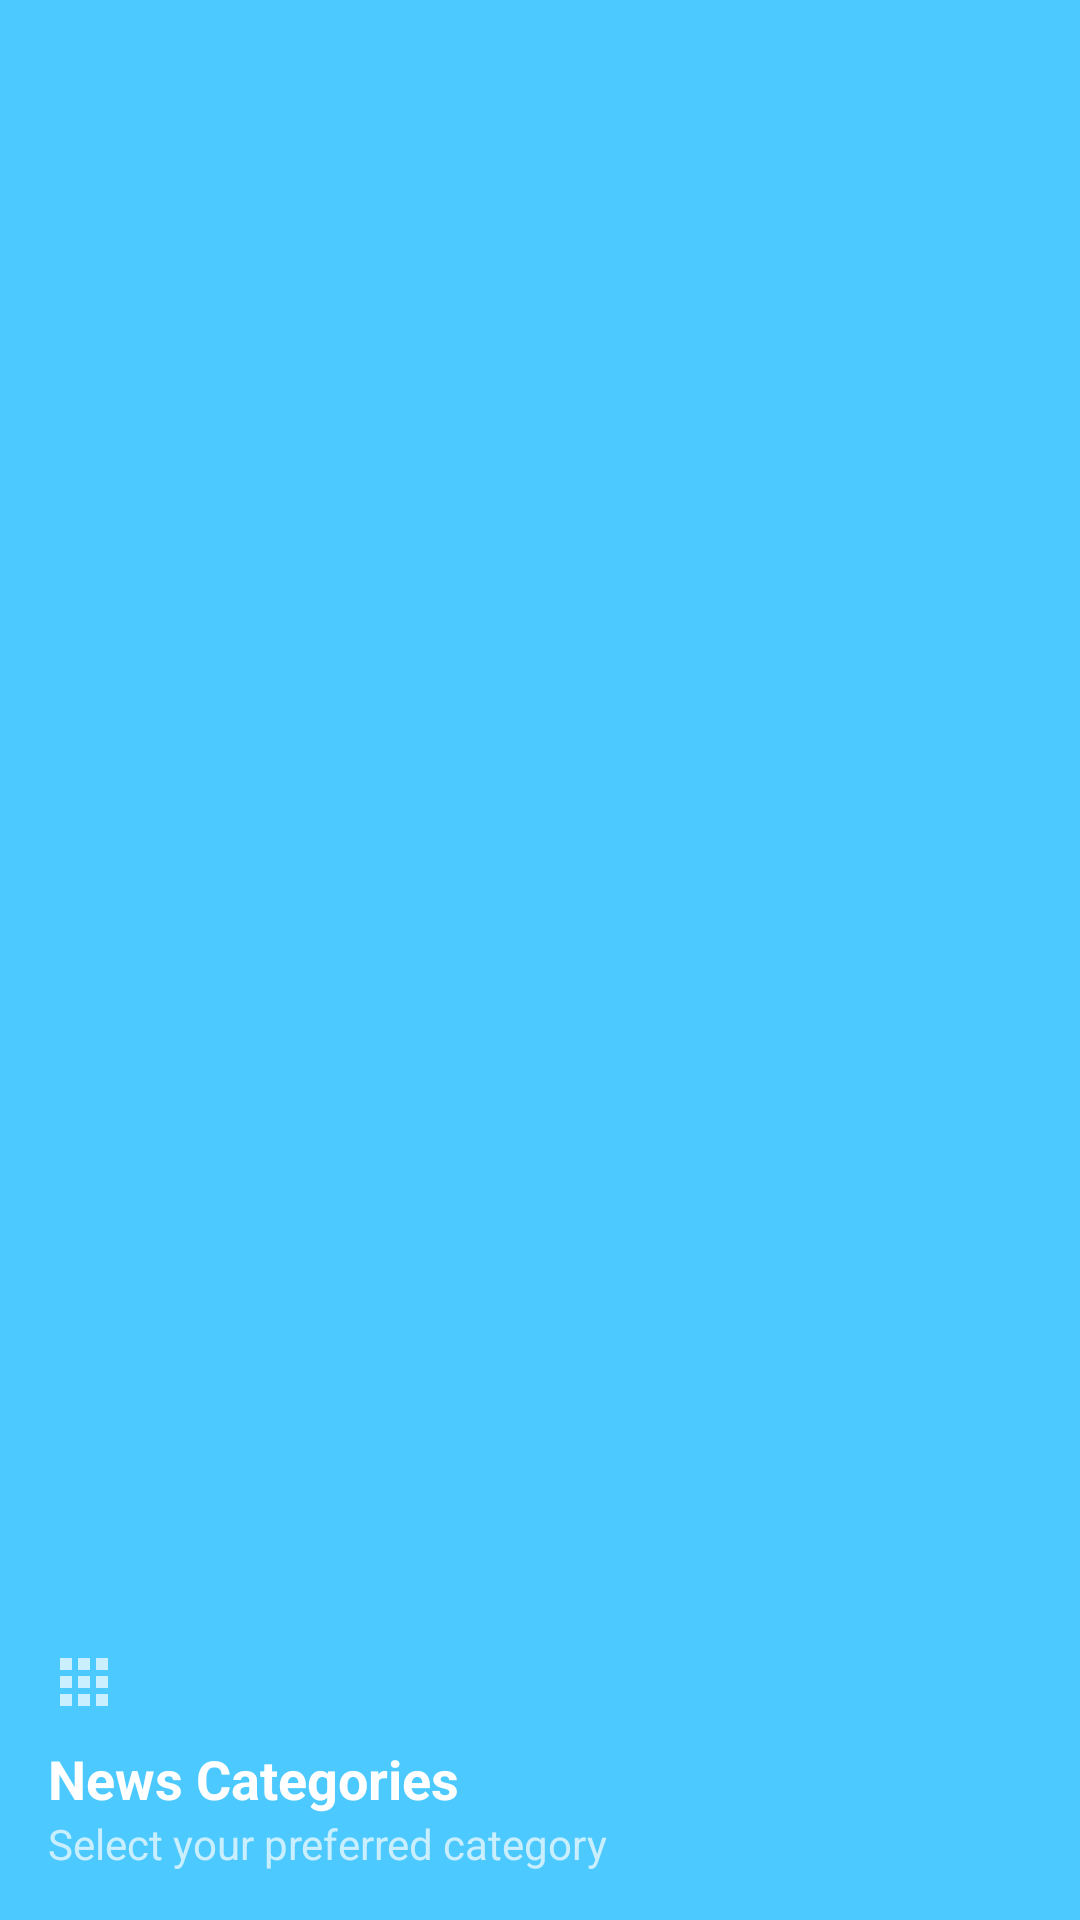

Screen size 1080w x 1920h. Icon name, then its box in pixels as (x1, y1, x2, y2):
all: (60, 1658, 108, 1706)
